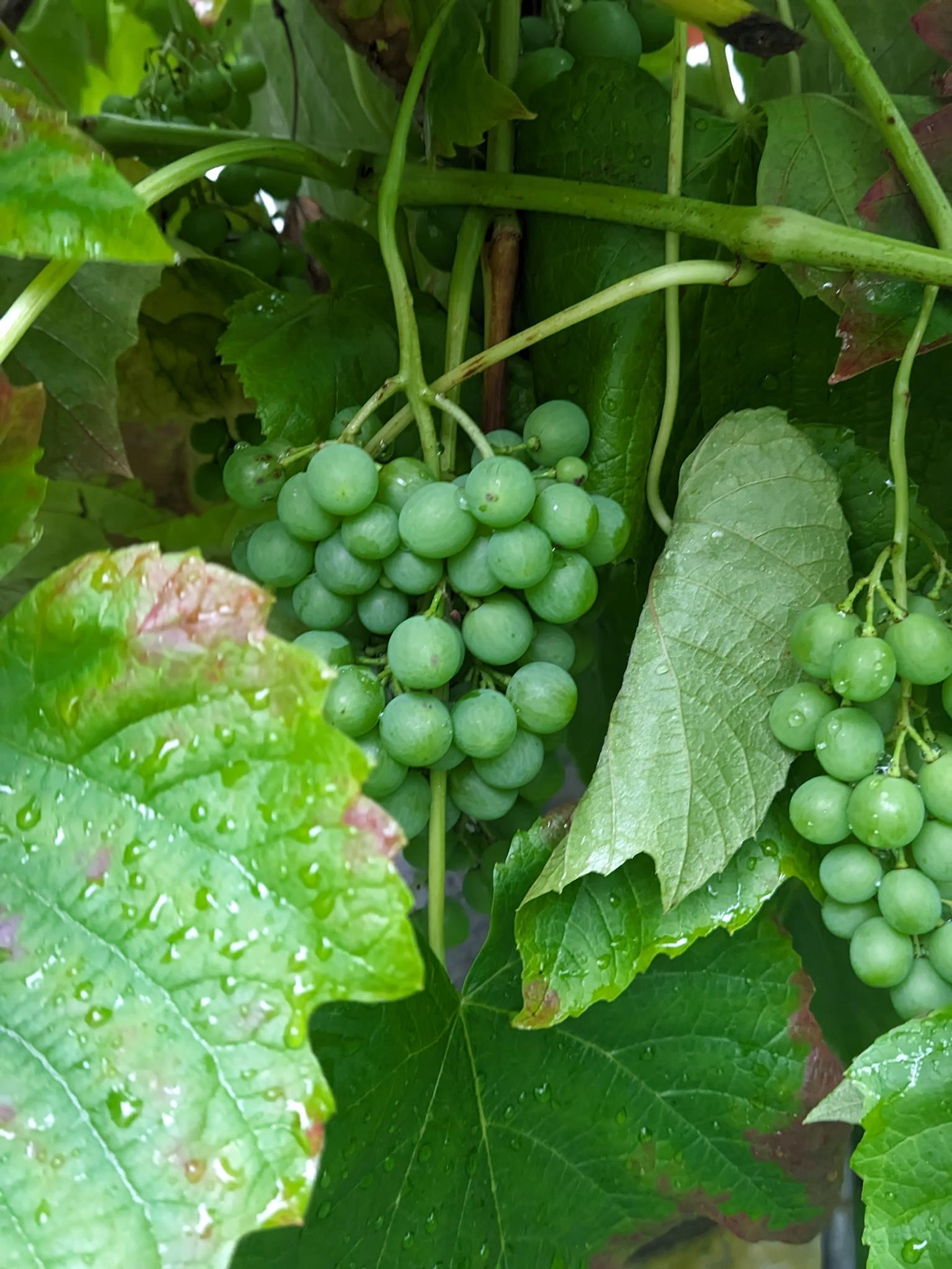Grape Unripe: (225, 398, 622, 940), (764, 580, 948, 1029), (101, 46, 318, 305), (468, 0, 681, 105)
